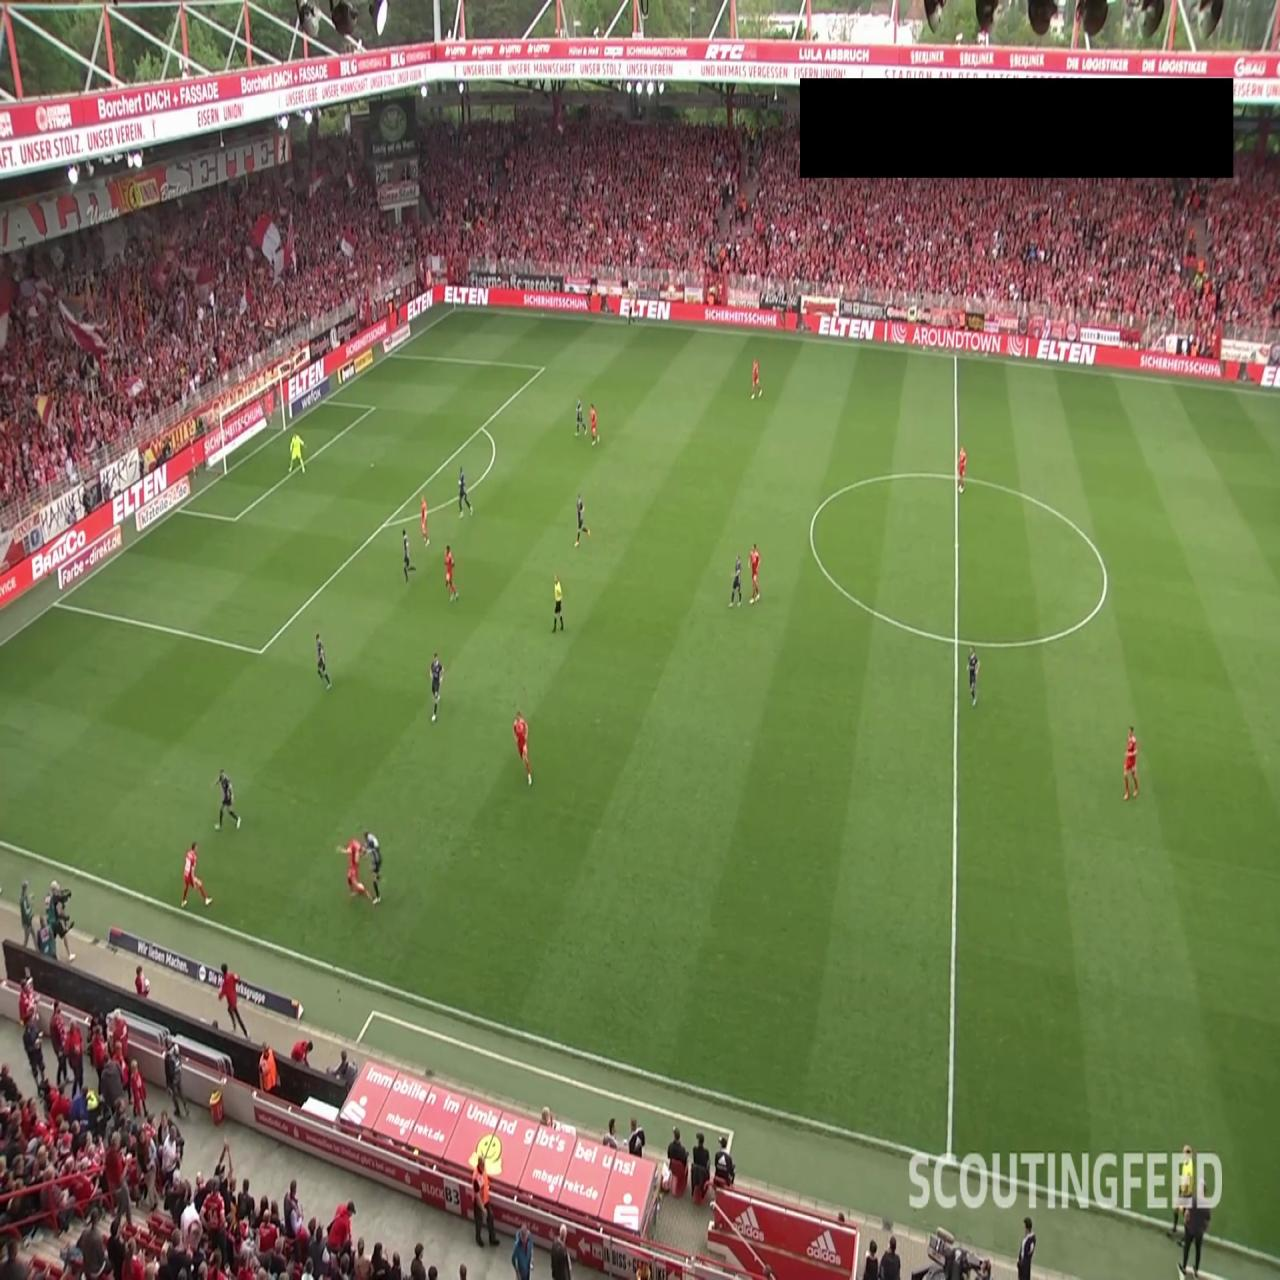goalkeeper: (288, 432, 306, 476)
player: (336, 837, 374, 905), (181, 840, 213, 908), (210, 768, 240, 831), (362, 830, 383, 906), (513, 709, 532, 786), (1123, 726, 1139, 801), (429, 651, 444, 723), (574, 493, 591, 549), (316, 633, 332, 690), (444, 544, 458, 602), (458, 465, 473, 518), (967, 647, 980, 708), (729, 554, 743, 606), (749, 542, 760, 603), (403, 528, 415, 580), (750, 358, 763, 399), (420, 496, 430, 546), (589, 402, 599, 446), (958, 446, 967, 493), (576, 398, 584, 436)
referee: (1167, 1144, 1194, 1242), (551, 574, 565, 633), (627, 288, 638, 327)
